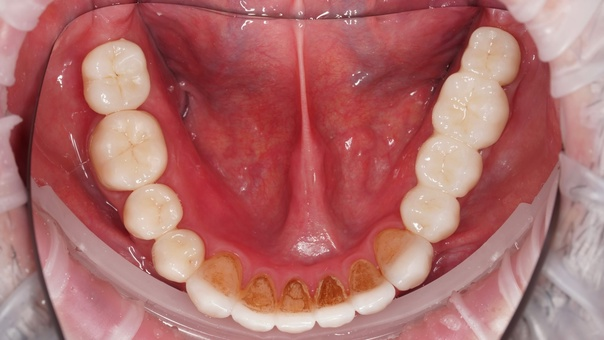LL1BC_healthy: (402, 185, 460, 239)
LL1M_healthy: (436, 74, 508, 144)
LL2BC_healthy: (419, 135, 483, 193)
LL2M_healthy: (467, 27, 519, 78)
LLCI_decay: (316, 276, 354, 324)
LLC_decay: (374, 228, 435, 290)
LLLI_decay: (352, 264, 395, 315)
LR1BC_healthy: (153, 230, 203, 280)
LR1M_healthy: (93, 111, 168, 189)
LR2BC_healthy: (123, 185, 183, 234)
LR2M_healthy: (82, 38, 151, 109)
LRCI_decay: (279, 278, 316, 332)
LRC_decay: (195, 255, 239, 317)
LRLI_decay: (242, 277, 277, 334)
